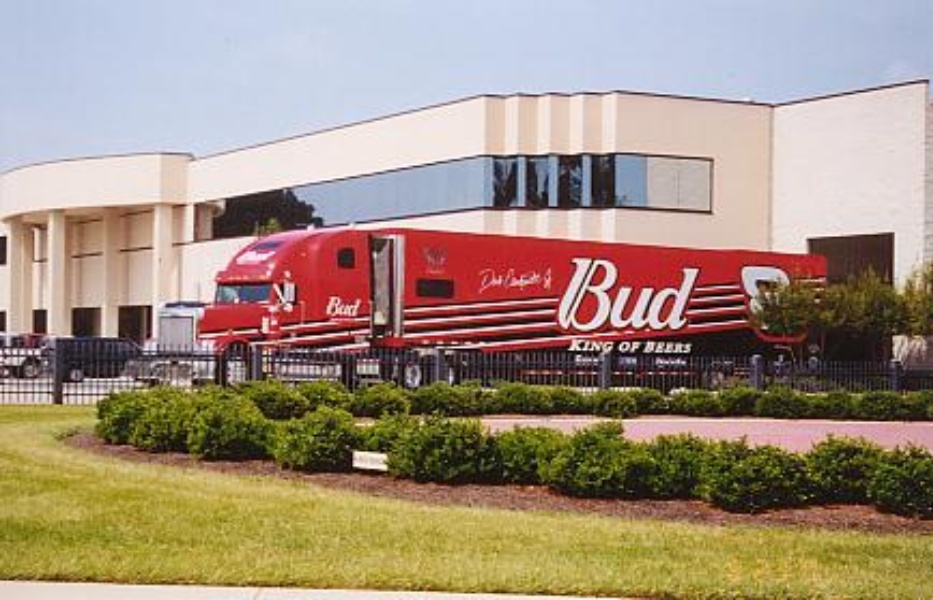text: (561, 256, 576, 332), (577, 256, 592, 332), (593, 256, 608, 332), (609, 256, 624, 332), (625, 256, 640, 332), (641, 256, 656, 332), (657, 256, 672, 332), (673, 256, 688, 332), (689, 256, 701, 332), (481, 267, 496, 295), (497, 267, 512, 295), (513, 267, 528, 295), (529, 267, 542, 295), (337, 295, 352, 319), (325, 295, 336, 319), (577, 338, 592, 355), (593, 338, 608, 355), (625, 340, 640, 355), (657, 340, 672, 355), (673, 340, 688, 355), (353, 295, 362, 319), (643, 340, 656, 355), (568, 338, 576, 355), (609, 338, 617, 355), (369, 456, 383, 465), (617, 340, 624, 355), (357, 456, 368, 465), (689, 340, 695, 355), (559, 256, 560, 332), (478, 267, 480, 295), (641, 340, 643, 355)
